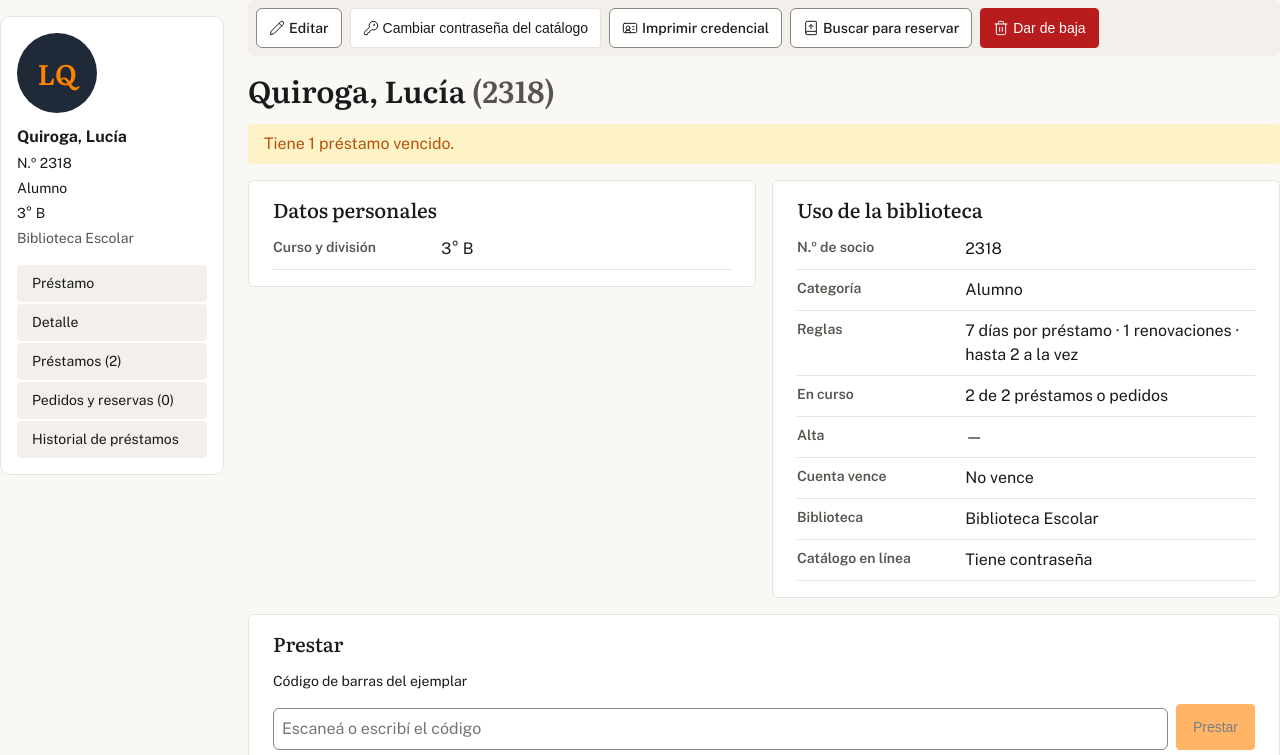
Scenario: FichaSocio › presta por código de barras desde la ficha
The image size is (1280, 755).
Type "BPSJ-7" into the field labelled "Código de barras del ejemplar" at point(720, 729), box [273, 708, 1168, 750]
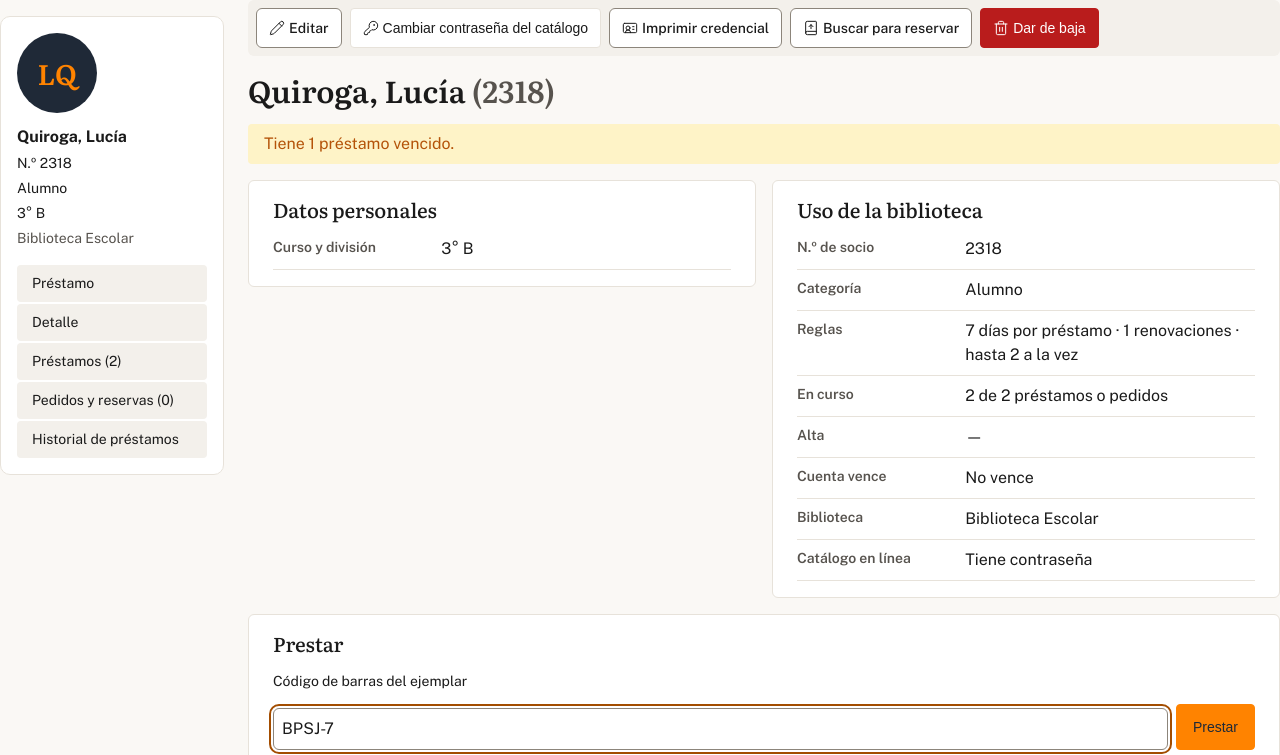
Click the button "Prestar" at point(1215, 727), box [1176, 704, 1255, 750]
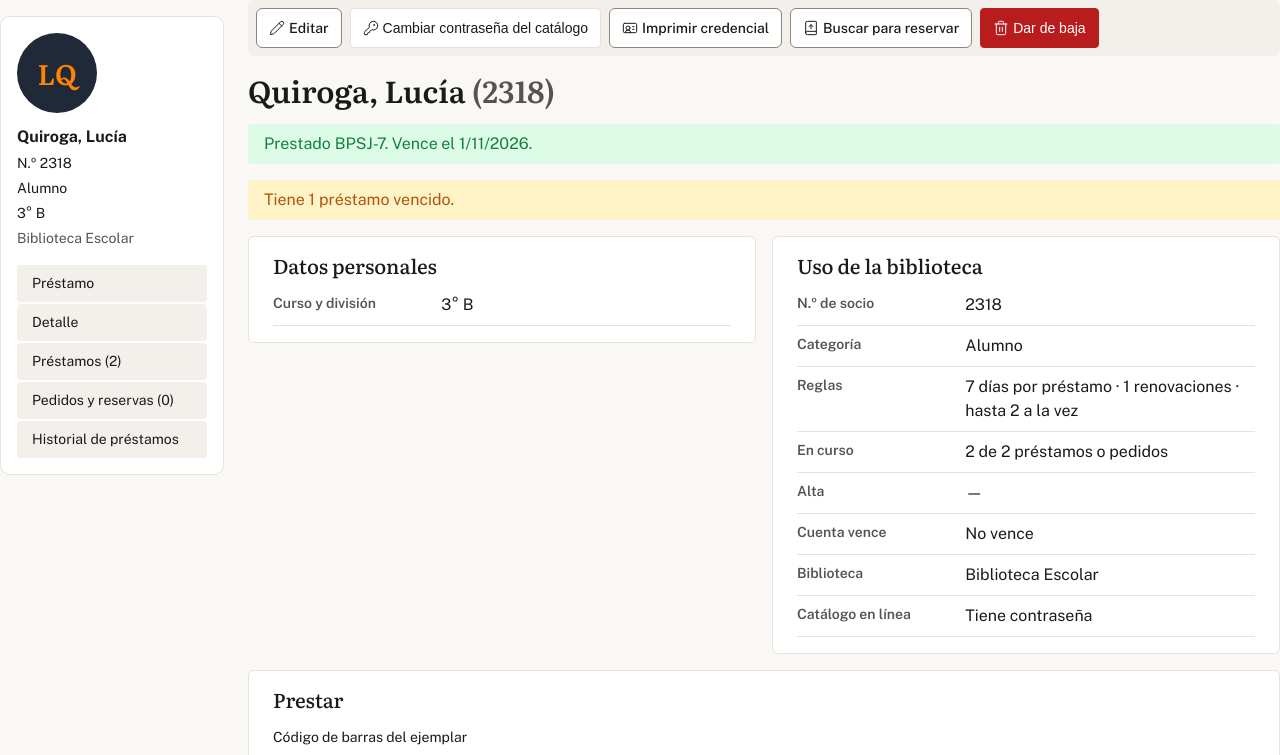
Result: the text "Prestado BPSJ-7. Vence el 1/11/2026." is shown at [248, 124, 1279, 164]
